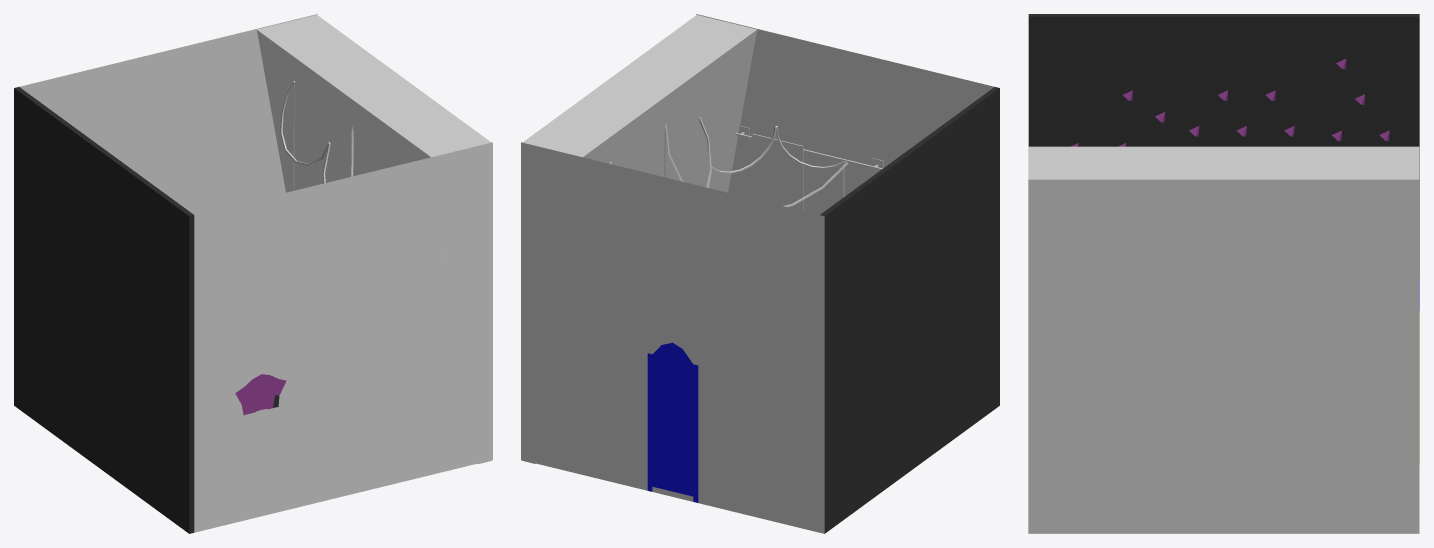
The model's file is Donjon SM.FBX.
3 views of the same model, side by side, from view 1: azimuth 30°, elevation 25°; view 2: azimuth 150°, elevation 25°; view 3: azimuth 270°, elevation 25° (orthographic). The views are drawn at different scales.
Visible parts, largest first — view 1: sm group, miroir, chaine et menottes; view 2: sm group, armoire chambre sm, rideaux chambres sm, chaine et menottes; view 3: sm group.
Boxes of the visible parts, x1,y1,x2,y2 form: sm group: [14, 14, 492, 533]; miroir: [235, 374, 286, 415]; chaine et menottes: [280, 81, 353, 190]; sm group: [521, 14, 999, 533]; armoire chambre sm: [647, 342, 698, 502]; rideaux chambres sm: [752, 133, 803, 210]; chaine et menottes: [609, 117, 848, 207]; sm group: [1028, 14, 1419, 533].
Bounding box in the file's own units: 600 × 603 × 600.
